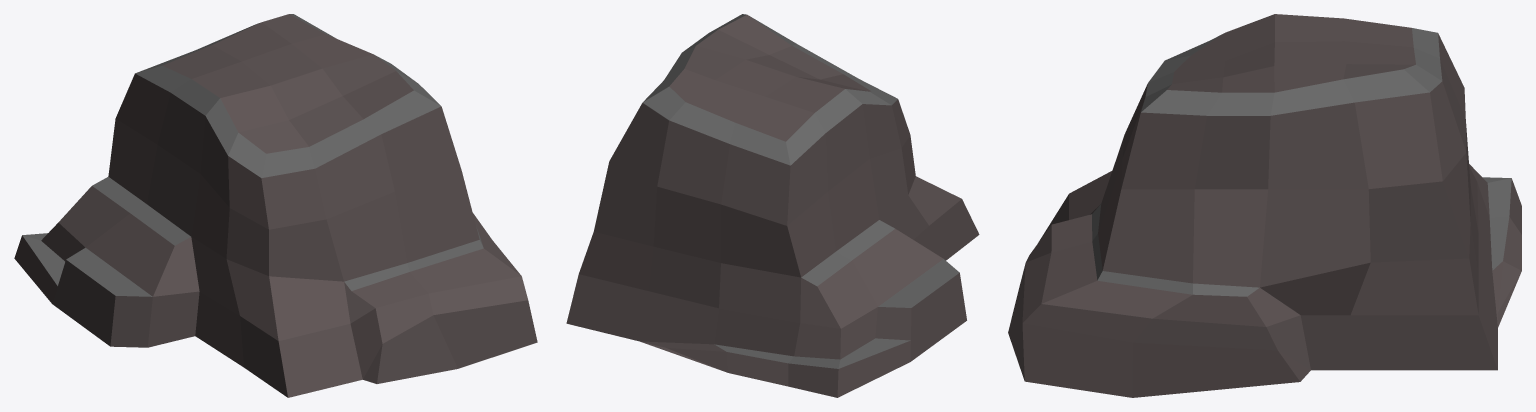
Rendered from Stone3.fbx.
3 renders of one model, left to right at view 1: azimuth 30°, elevation 25°; view 2: azimuth 150°, elevation 25°; view 3: azimuth 270°, elevation 25°, orthographic. The views are drawn at different scales.
Visible parts, largest first — view 1: Stone3; view 2: Stone3; view 3: Stone3.
Boxes of the visible parts, left/top/right/bottom form: Stone3: left=14, top=14, right=537, bottom=397; Stone3: left=566, top=14, right=979, bottom=397; Stone3: left=1008, top=14, right=1521, bottom=397.
Bounding box in the file's own units: 317 × 196 × 344.
